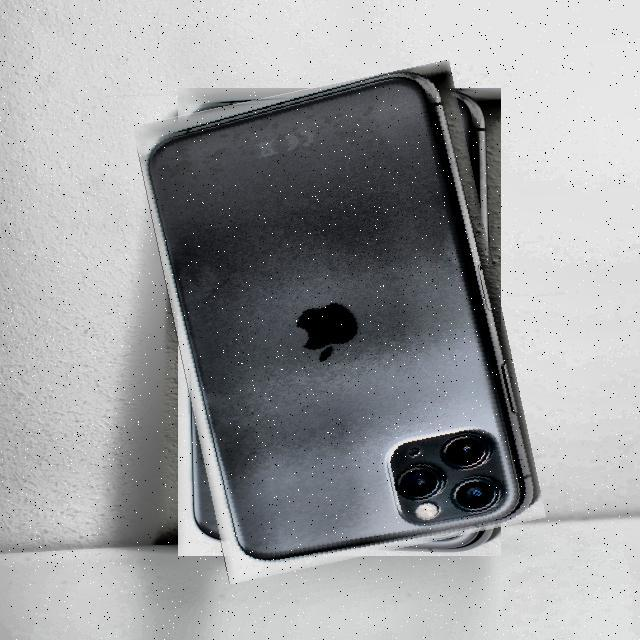Phone: (154, 72, 524, 570)
